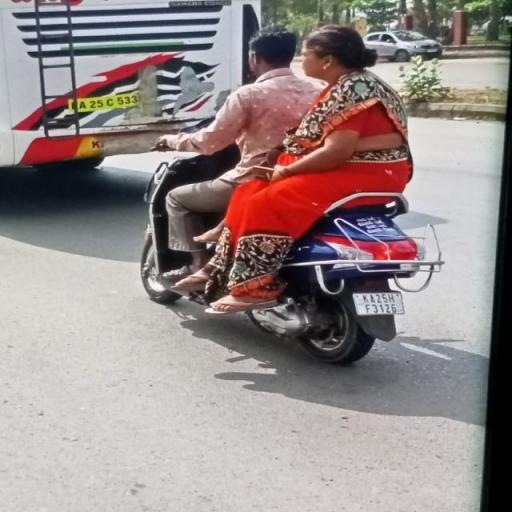bike: (136, 20, 434, 364)
numberplate: (355, 292, 411, 316)
withouthelmet: (306, 28, 360, 79), (247, 32, 295, 72)
